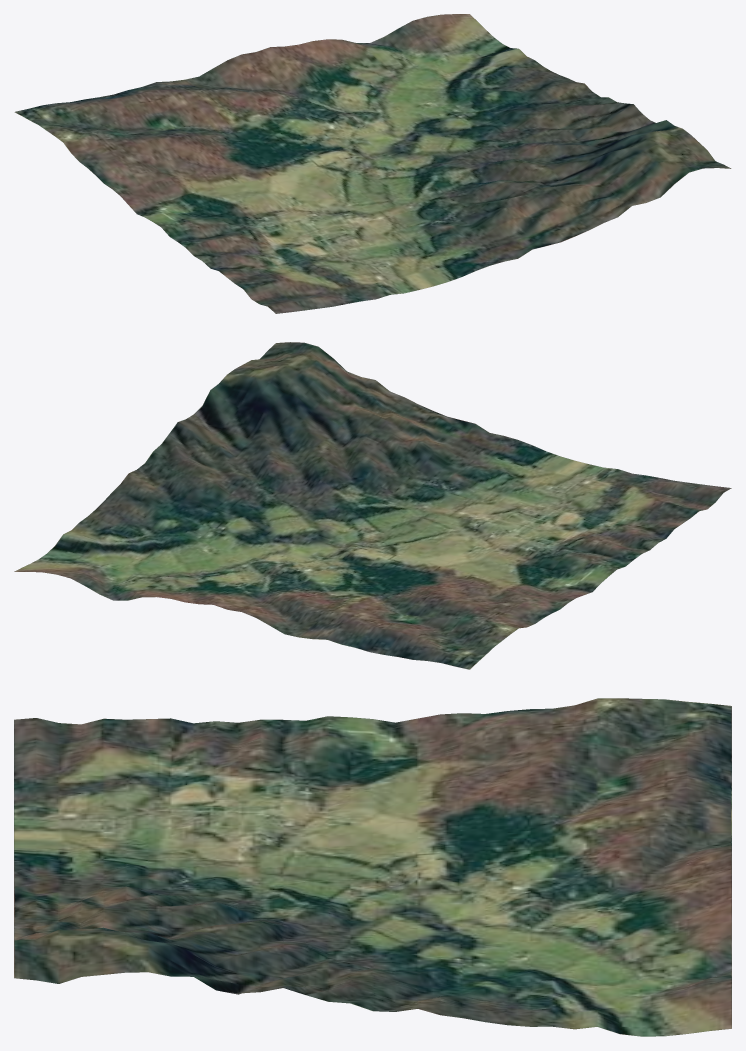
3 views of the same model, one above another, from view 1: azimuth 30°, elevation 25°; view 2: azimuth 150°, elevation 25°; view 3: azimuth 270°, elevation 25° (orthographic). The views are drawn at different scales.
Size of the model in its own units: 3900 by 454 by 3883.
1 material, 1 textured.
